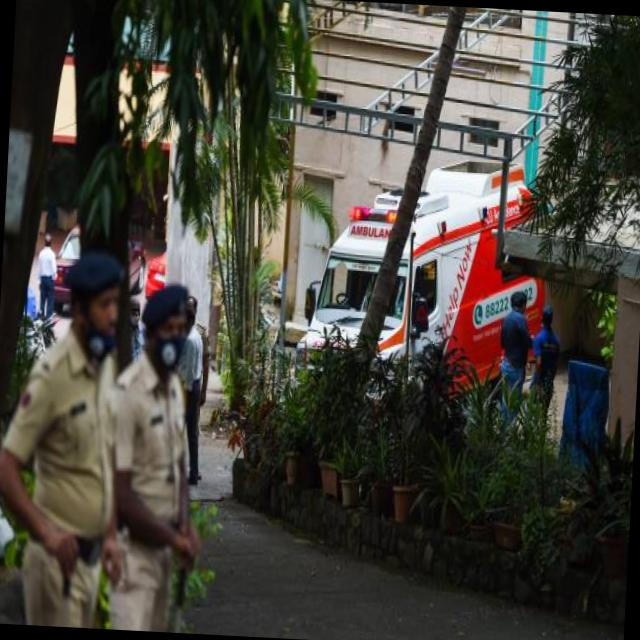ambulance: (426, 198, 490, 346), (342, 200, 398, 226), (348, 224, 392, 243)
